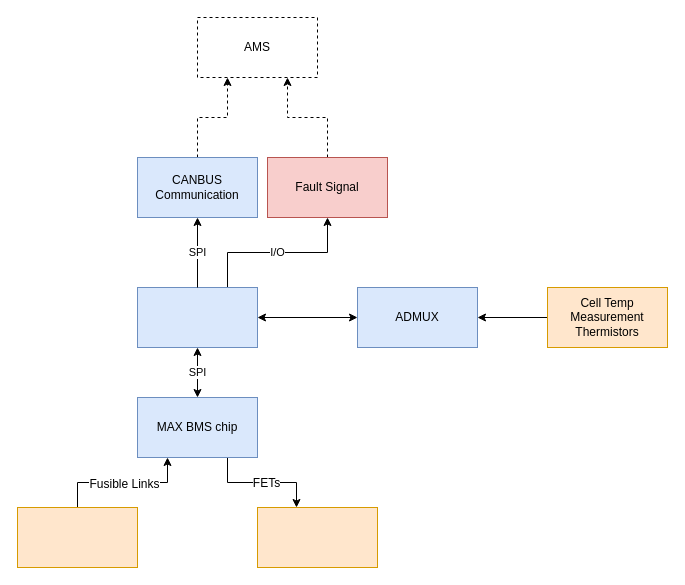
Some shapes in this 685 by 585 pixel diagram are drawn without their labels. Here are the shapes that lost their labels. From the top down, the centre of each, then its label:
At [197,317]: "ATmega uC".
At [77,537]: "Cell Voltage Sensing".
At [317,537]: "Cell Balancing".
